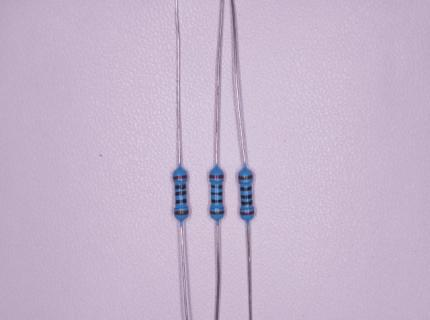Black band: (240, 200, 253, 206), (240, 186, 252, 192), (174, 184, 186, 190), (175, 199, 187, 205), (240, 194, 252, 199), (175, 191, 186, 196), (211, 192, 223, 196), (211, 199, 223, 203), (211, 185, 222, 189)
Brown band: (239, 174, 253, 180), (174, 210, 189, 215), (210, 211, 225, 215)
Red band: (172, 174, 187, 180), (240, 210, 255, 216), (209, 175, 224, 179)
